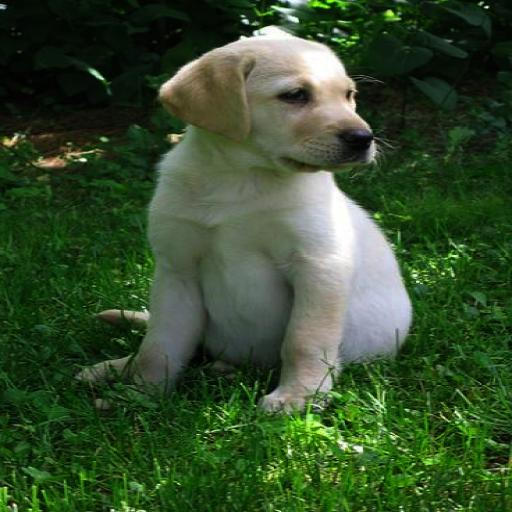dog_face: (173, 33, 378, 178)
